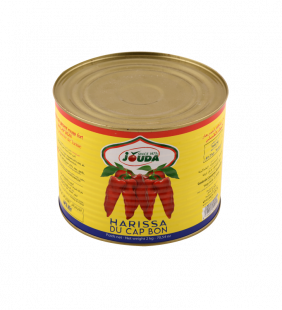JOUDA: (47, 46, 234, 252)
